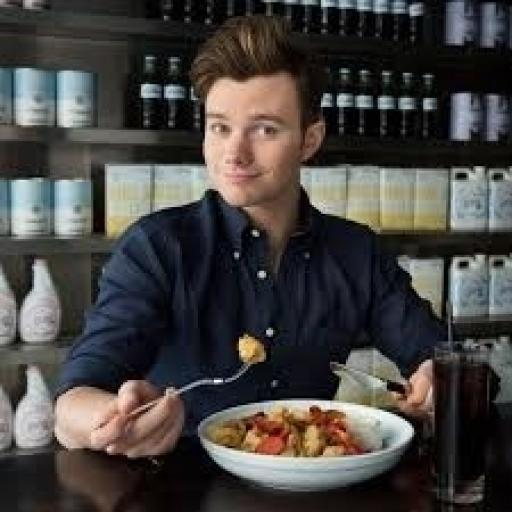eating: (50, 11, 453, 462)
